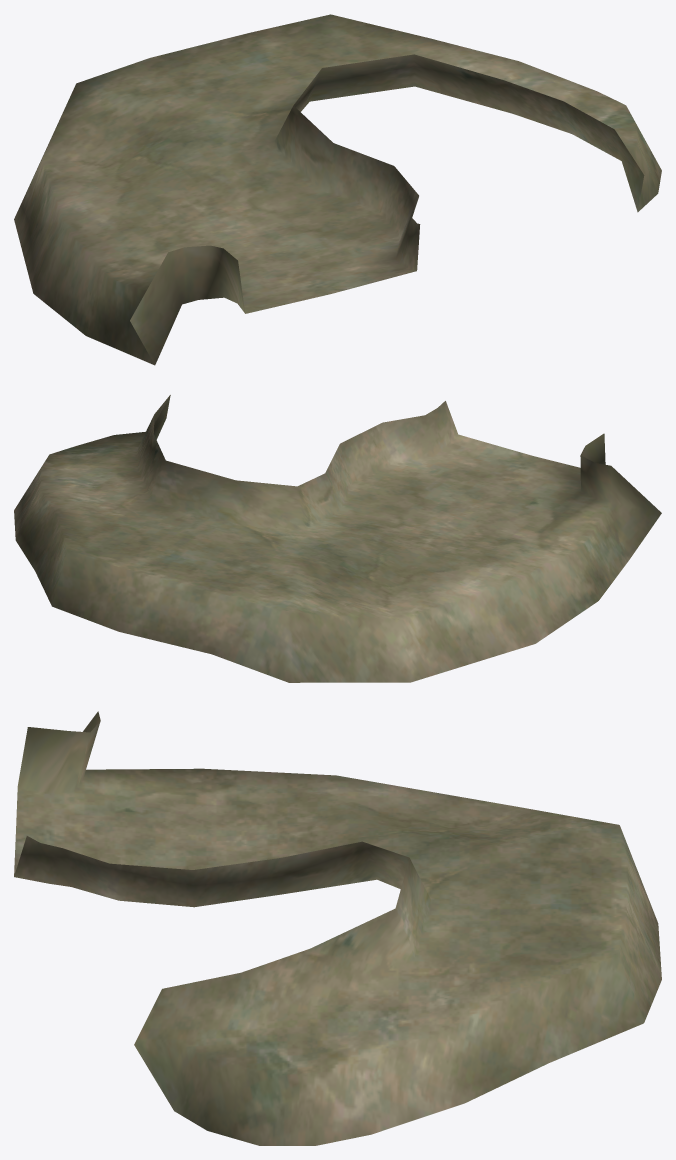
Rendered from EKH_GROTTO_PS_GR_OBJECT17.fbx.
3 views of the same model, one above another, from view 1: azimuth 30°, elevation 25°; view 2: azimuth 150°, elevation 25°; view 3: azimuth 270°, elevation 25° (orthographic). The views are drawn at different scales.
Visible parts, largest first — view 1: EKH_GROTTO_PS_GR_OBJECT17; view 2: EKH_GROTTO_PS_GR_OBJECT17; view 3: EKH_GROTTO_PS_GR_OBJECT17.
Boxes of the visible parts, x1=… form: EKH_GROTTO_PS_GR_OBJECT17: x1=14, y1=14, x2=661, y2=365; EKH_GROTTO_PS_GR_OBJECT17: x1=14, y1=395, x2=661, y2=682; EKH_GROTTO_PS_GR_OBJECT17: x1=14, y1=711, x2=661, y2=1145.
Bounding box in the file's own units: 73584 × 14619 × 58617.
1 material, 1 textured.
